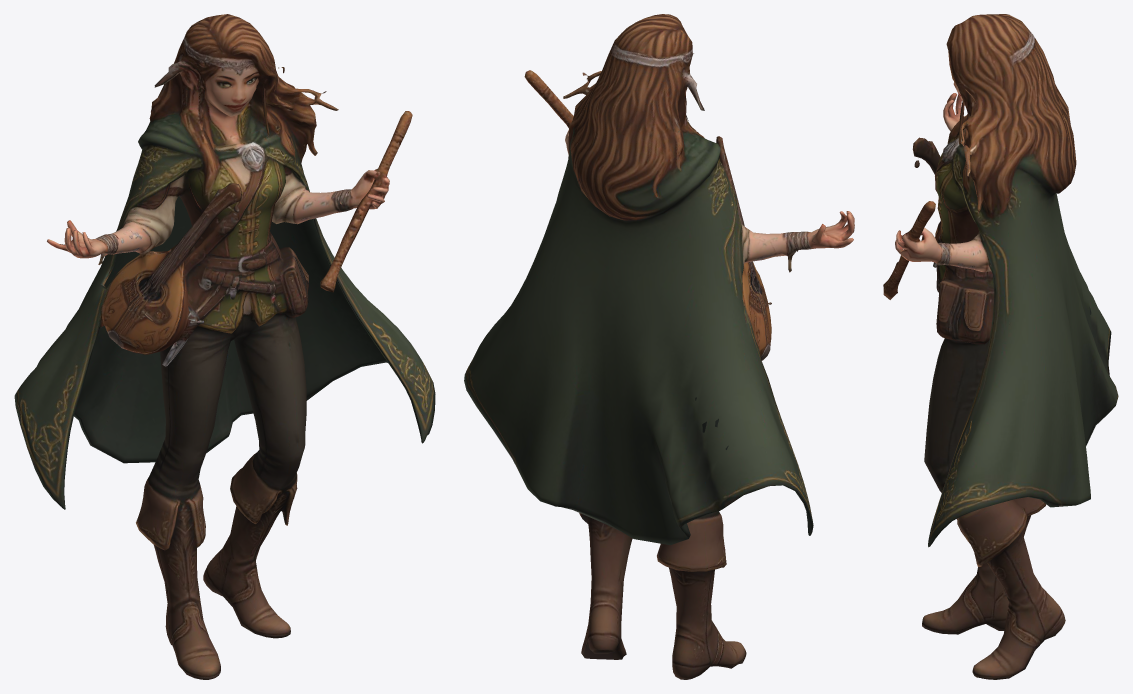
The model's file is Barda.glb.
The picture shows the model from 3 angles, left to right: view 1: azimuth 30°, elevation 25°; view 2: azimuth 150°, elevation 25°; view 3: azimuth 270°, elevation 25°; orthographic projection. The views are drawn at different scales.
Visible parts, largest first — view 1: tripo_node_937bb0a7-5f64-462d-82ac-bb479c6c2083; view 2: tripo_node_937bb0a7-5f64-462d-82ac-bb479c6c2083; view 3: tripo_node_937bb0a7-5f64-462d-82ac-bb479c6c2083.
Part boxes in pixels (<box>): tripo_node_937bb0a7-5f64-462d-82ac-bb479c6c2083: <box>14,14,435,679</box>; tripo_node_937bb0a7-5f64-462d-82ac-bb479c6c2083: <box>464,14,854,679</box>; tripo_node_937bb0a7-5f64-462d-82ac-bb479c6c2083: <box>883,14,1118,679</box>.
Bounding box in the file's own units: 0.6297 × 0.9982 × 0.3358.
1 material, 1 textured.
